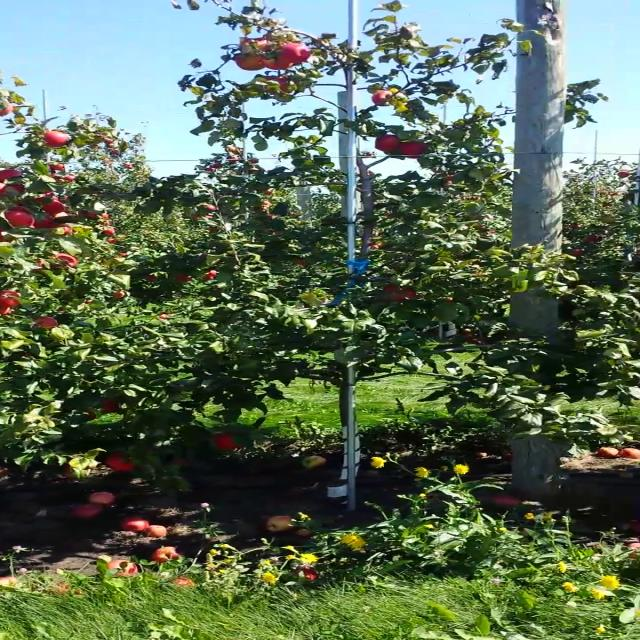apple: (276, 42, 310, 62), (400, 141, 429, 159), (374, 134, 402, 152), (236, 56, 270, 70), (5, 211, 34, 227), (260, 57, 294, 69), (243, 37, 272, 51), (108, 455, 132, 471), (44, 132, 70, 146), (264, 76, 288, 90), (217, 434, 240, 448), (43, 200, 65, 214), (0, 291, 20, 305), (372, 90, 392, 104), (1, 182, 24, 194), (1, 170, 23, 182), (10, 207, 34, 216), (37, 316, 58, 326), (395, 288, 416, 298), (57, 254, 75, 265), (35, 218, 54, 228), (102, 398, 115, 412), (2, 101, 12, 118), (58, 224, 71, 234), (0, 232, 12, 242), (54, 212, 68, 218), (1, 306, 11, 314), (386, 286, 396, 291)
